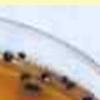black: (22, 82, 44, 96), (40, 72, 53, 84), (3, 49, 14, 63), (57, 74, 68, 84), (20, 71, 32, 80), (65, 81, 75, 91), (80, 94, 95, 100), (18, 51, 27, 60)
